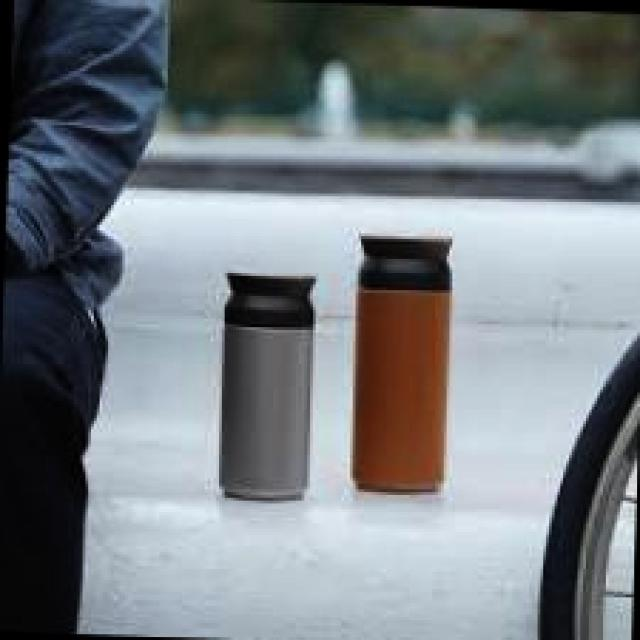bottle: (344, 226, 458, 496), (219, 266, 313, 502)
